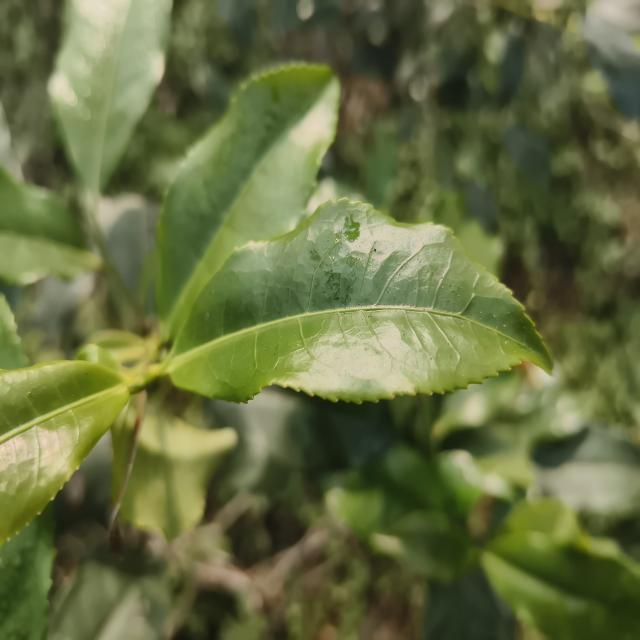Leaf: (167, 200, 551, 402), (156, 63, 340, 339), (48, 0, 172, 191), (0, 361, 129, 544), (119, 391, 238, 540), (482, 531, 640, 640), (0, 168, 101, 285), (532, 426, 640, 518), (369, 510, 475, 581), (0, 506, 55, 640), (432, 371, 522, 439), (112, 400, 137, 498)
